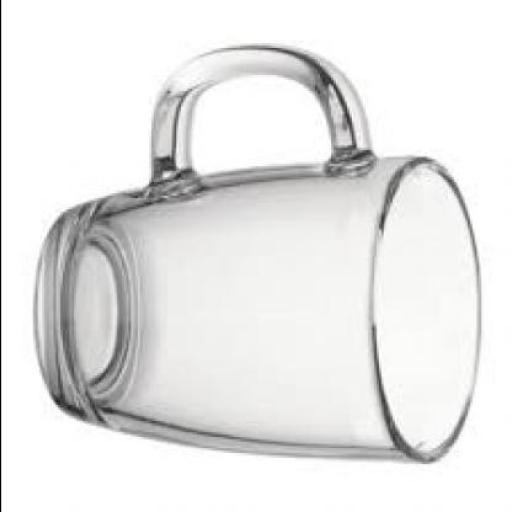glass: (37, 48, 482, 466)
